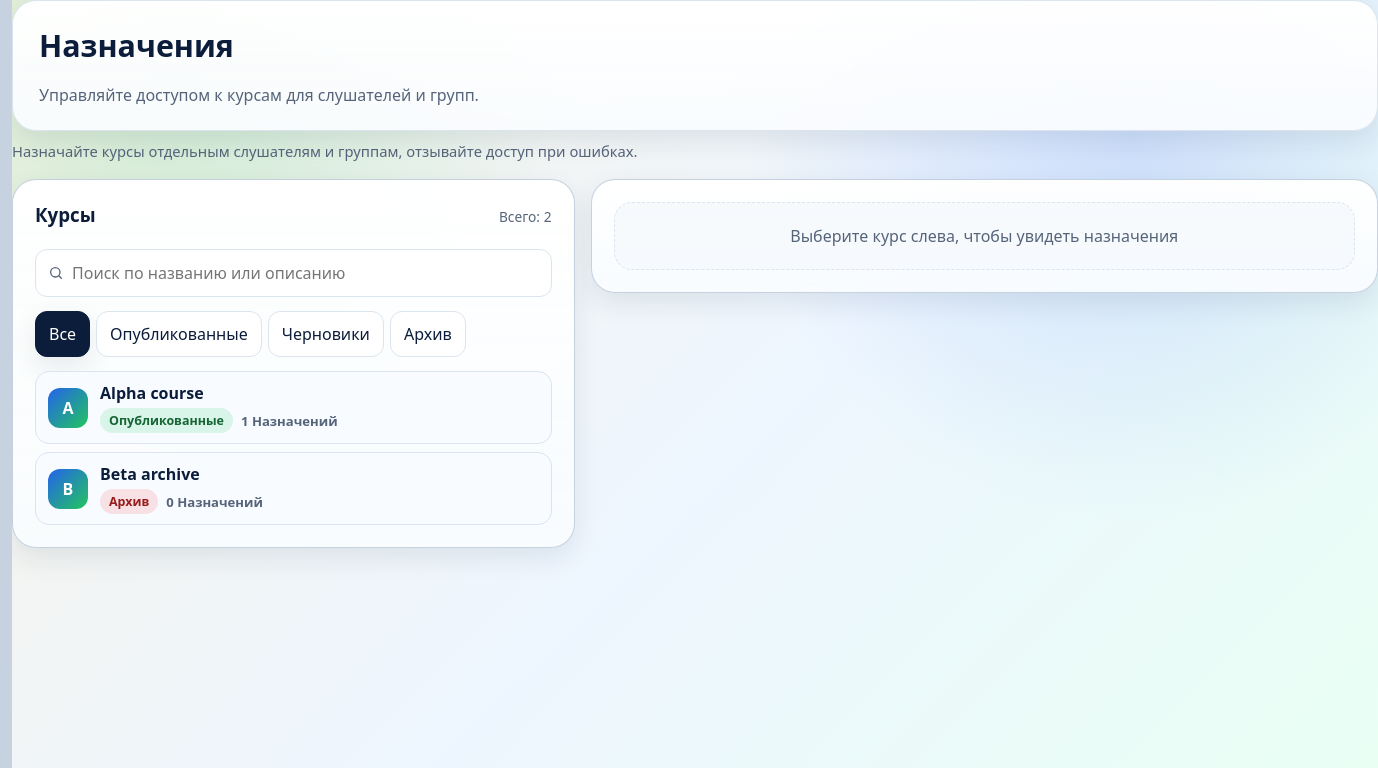
Test case: AssignmentsPage › switches right panel when course tile clicked
Click the button "A Alpha course Опубликованные 1 Назначений". click: (68, 408)
box: 35,371 -> 552,444
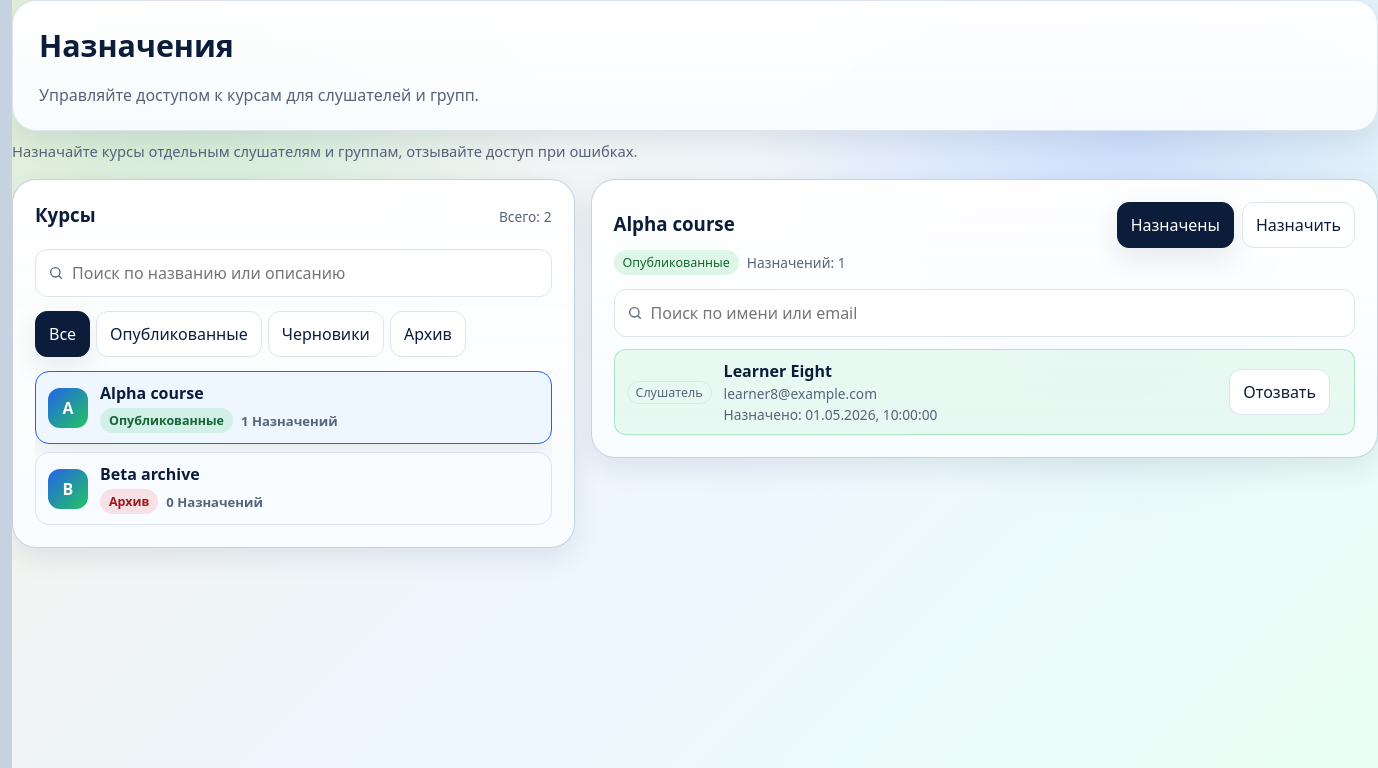
Check: the heading "Alpha course" is shown, box 614,211 -> 735,236
